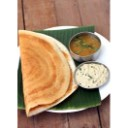dosa: (18, 30, 78, 116)
